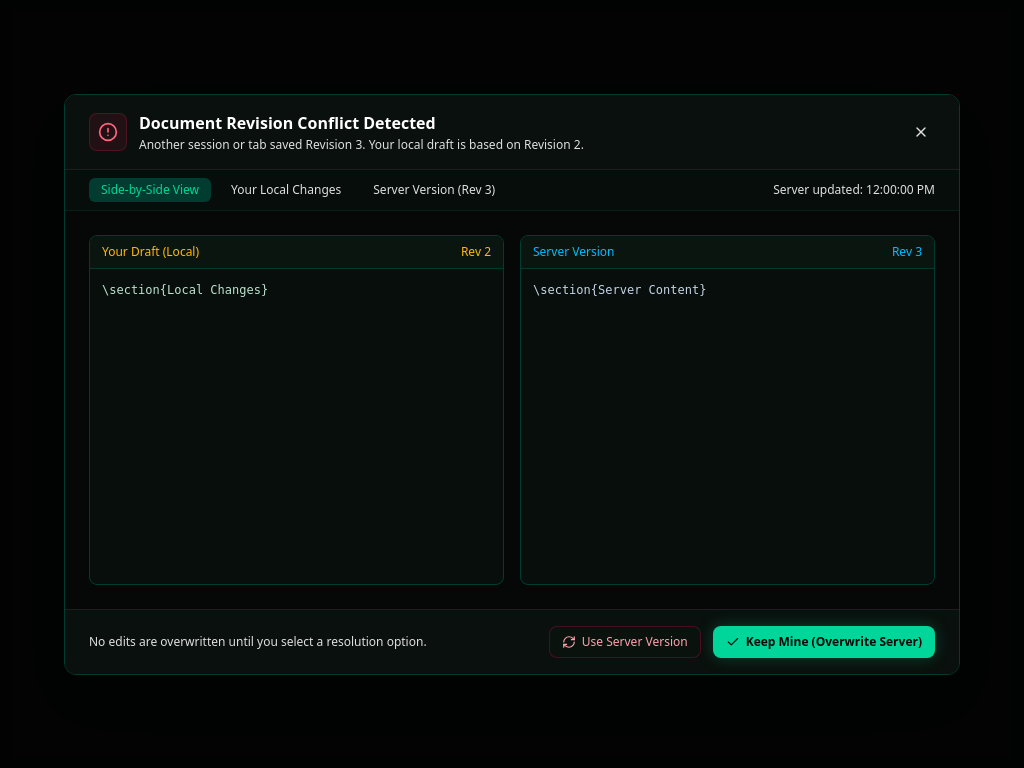
Scenario: ConflictModal Component › allows switching views between Side-by-Side, Mine, and Server
What coordinates should you click on to do the following:
click the button "Your Local Changes"
I would click on:
 (286, 190)
Its box is left=219, top=178, right=353, bottom=202.
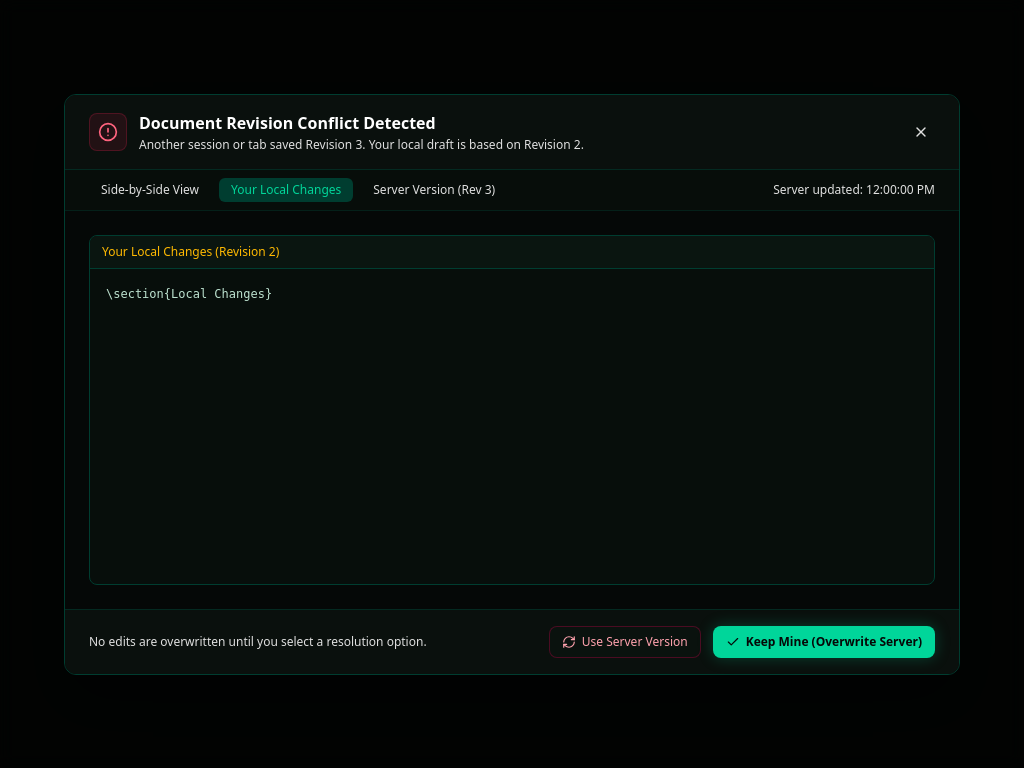
Result: the text "Your Local Changes (Revision 2)" is shown at left=90, top=236, right=934, bottom=268
What coordinates should you click on to do the following:
click the button "Server Version (Rev 3)"
I would click on:
 (434, 190)
Its box is left=361, top=178, right=507, bottom=202.
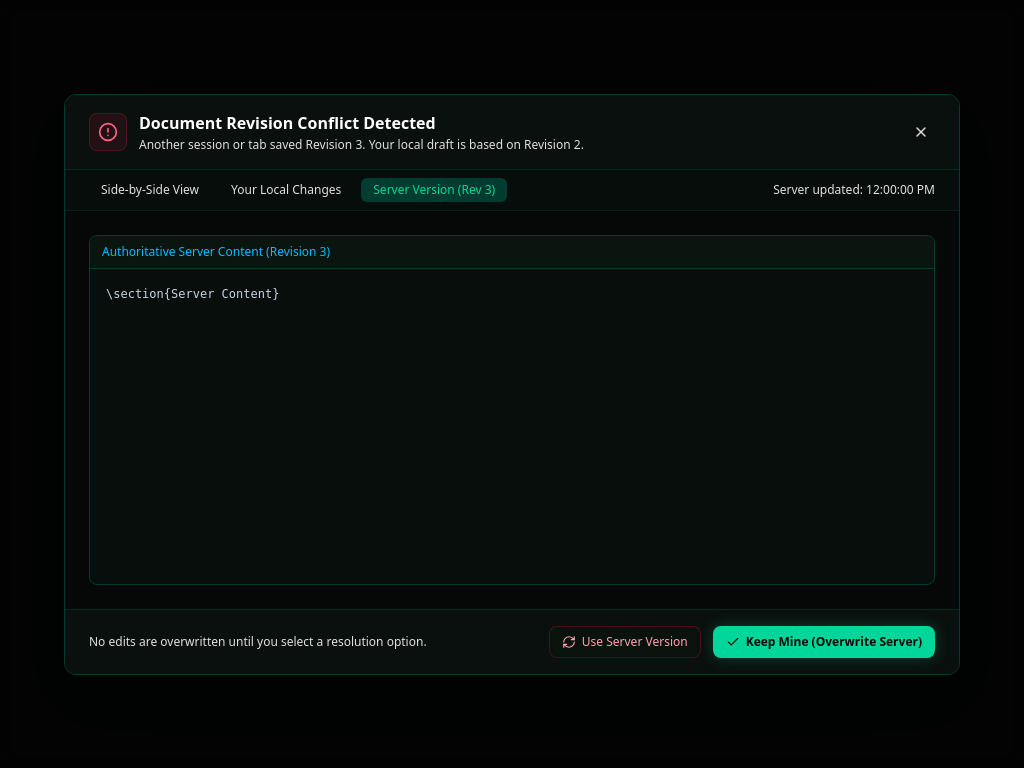
Result: the text "Authoritative Server Content (Revision 3)" is shown at left=90, top=236, right=934, bottom=268
